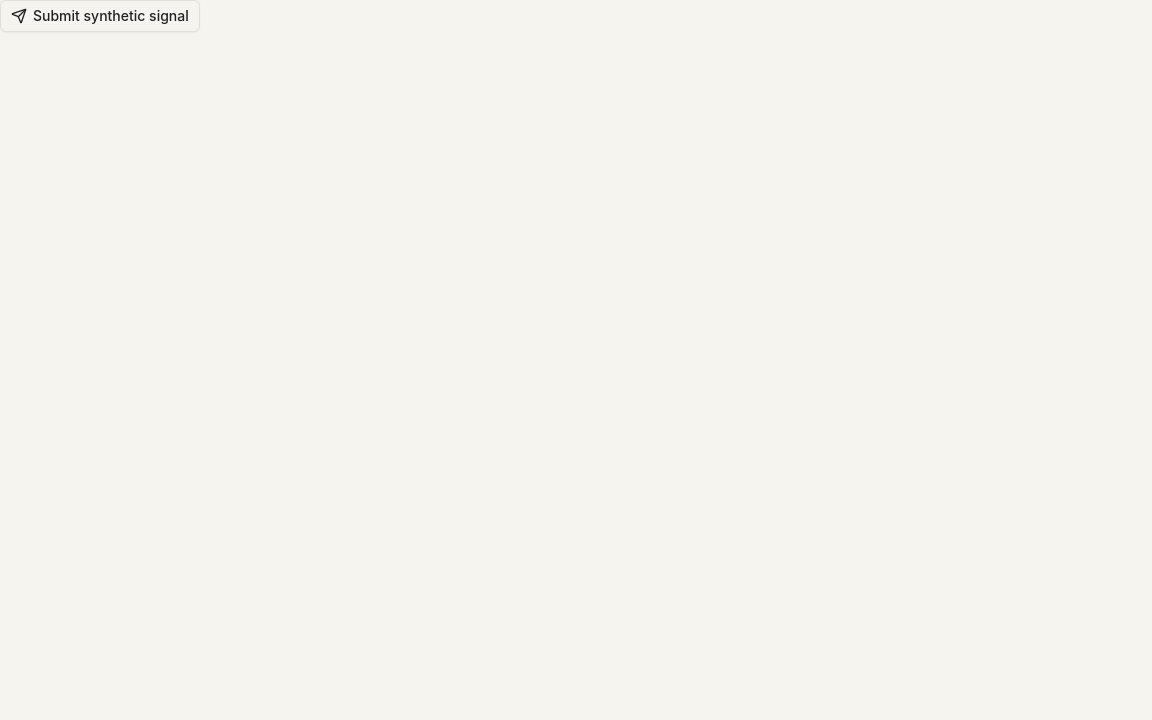
Test: SubmitSignalSheet › shows an accepted held-for-review result with its reasons
Click the button "Submit synthetic signal". click: click(100, 16)
box: [0, 0, 200, 32]
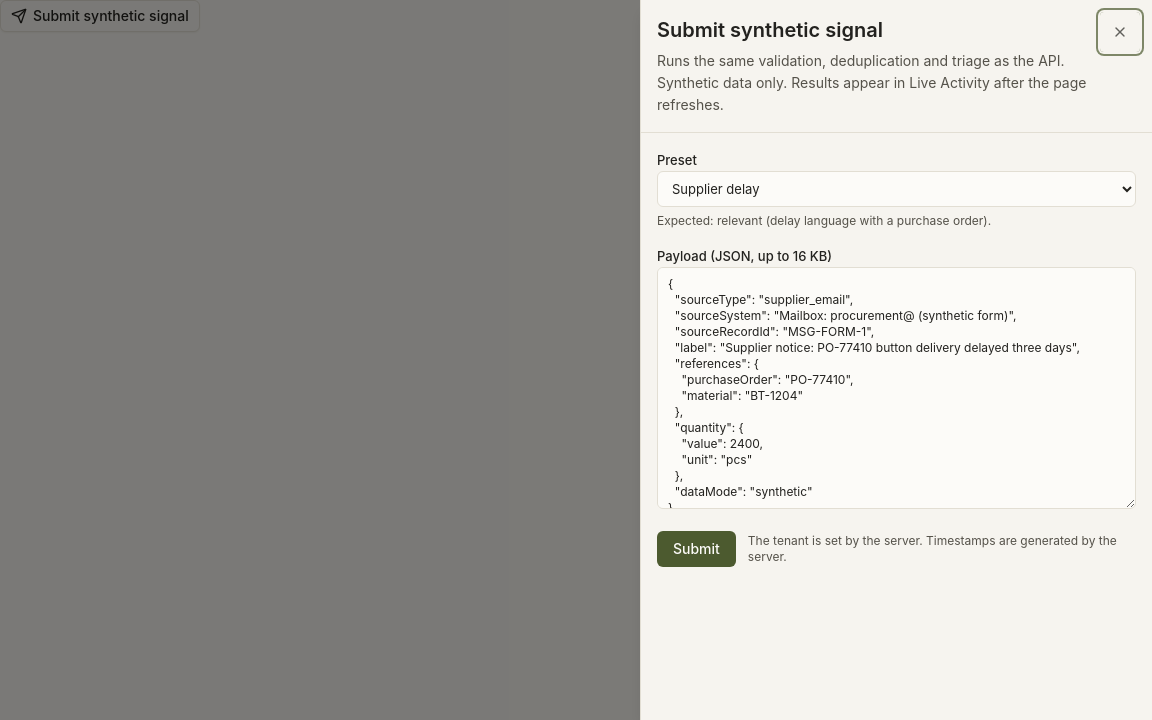
Click the button "Submit". click: click(696, 549)
box: [657, 531, 736, 567]
(page scrolled)
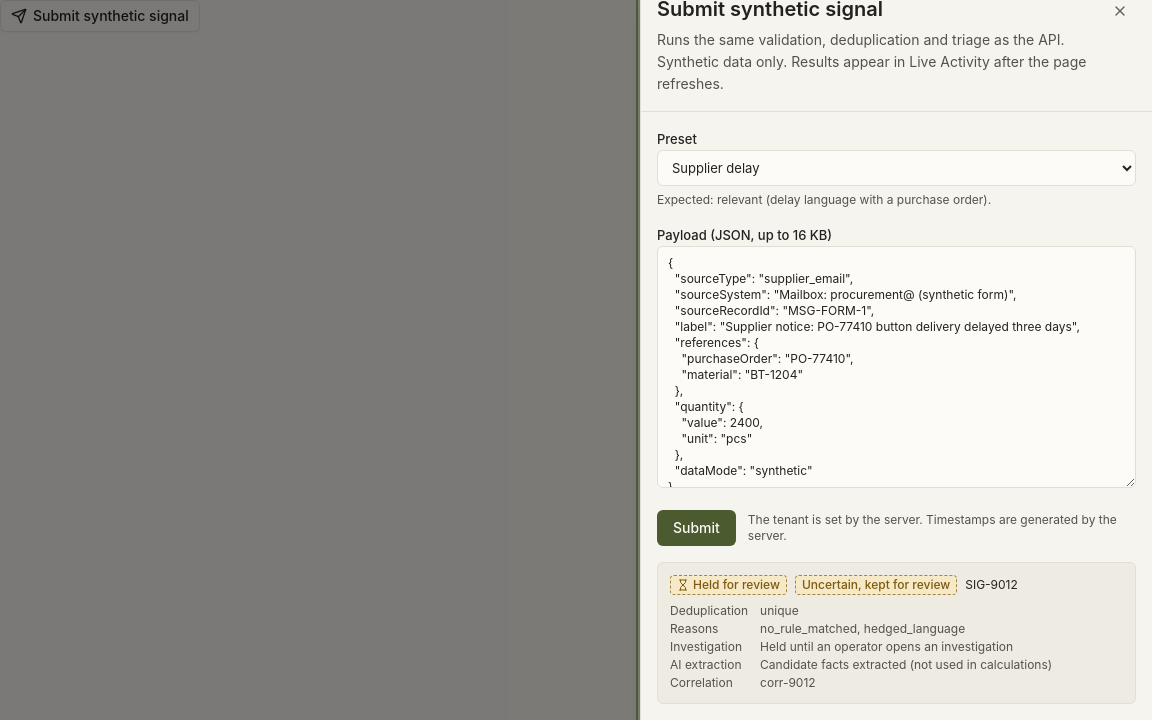
Expected: the message shows "no_rule_matched, hedged_language", [760, 621, 965, 636]
Expected: the message shows "Held for review", [693, 577, 780, 592]
Expected: the message shows "Uncertain, kept for review", [802, 577, 950, 592]
